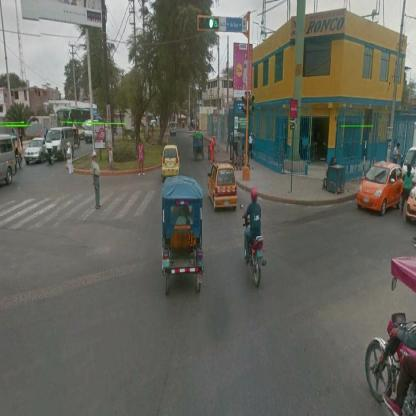Moto: (243, 190, 264, 288)
Peaton: (400, 166, 414, 218), (92, 153, 101, 210), (138, 141, 146, 178), (67, 140, 75, 175), (237, 137, 243, 172), (394, 144, 402, 165), (211, 136, 216, 163), (249, 134, 254, 161), (20, 128, 24, 149)
Pista: (1, 192, 416, 412)
Vehiculo: (163, 175, 204, 297), (358, 162, 404, 218), (210, 161, 239, 214), (58, 108, 100, 140), (46, 130, 76, 167), (1, 135, 18, 187), (162, 144, 181, 182), (26, 140, 47, 168), (7, 135, 22, 170), (403, 147, 416, 184), (85, 117, 103, 143), (407, 184, 416, 223), (193, 135, 205, 162), (73, 130, 81, 147), (169, 123, 177, 137)
